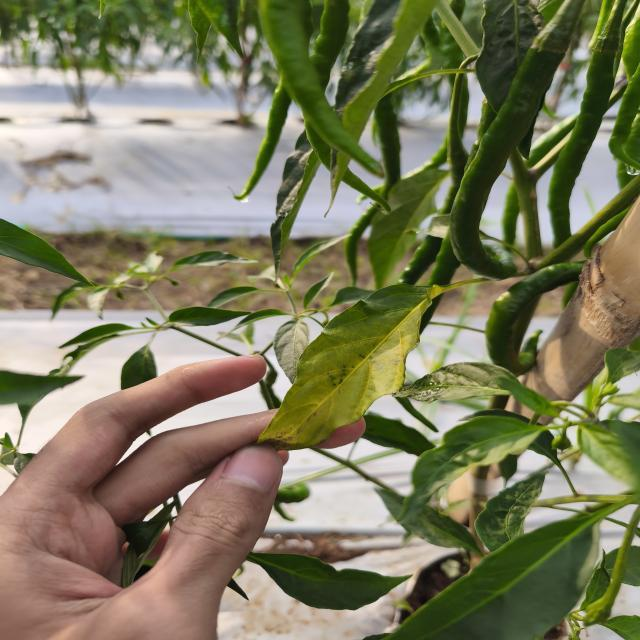Daun Cabai Sehat: (374, 513, 593, 640)
Virus Kuning: (254, 276, 427, 452)
